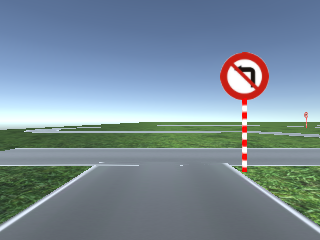0: (1, 195, 320, 239)
NoLeft: (220, 52, 269, 100)
